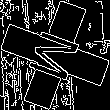M_E: (23, 24, 87, 86)
